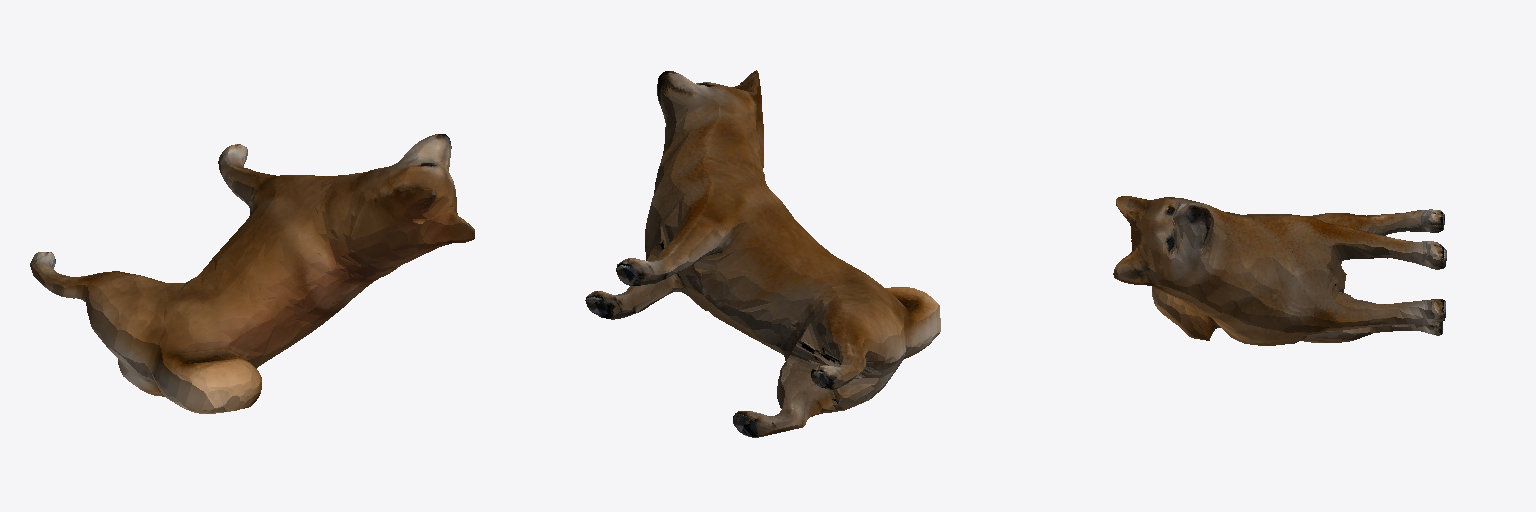
The picture shows the model from 3 angles: view 1: azimuth 30°, elevation 25°; view 2: azimuth 150°, elevation 25°; view 3: azimuth 270°, elevation 25°; orthographic projection.
Size of the model in its own units: 0.5428 by 0.407 by 0.5184.
Materials: 1 (1 with a texture image).